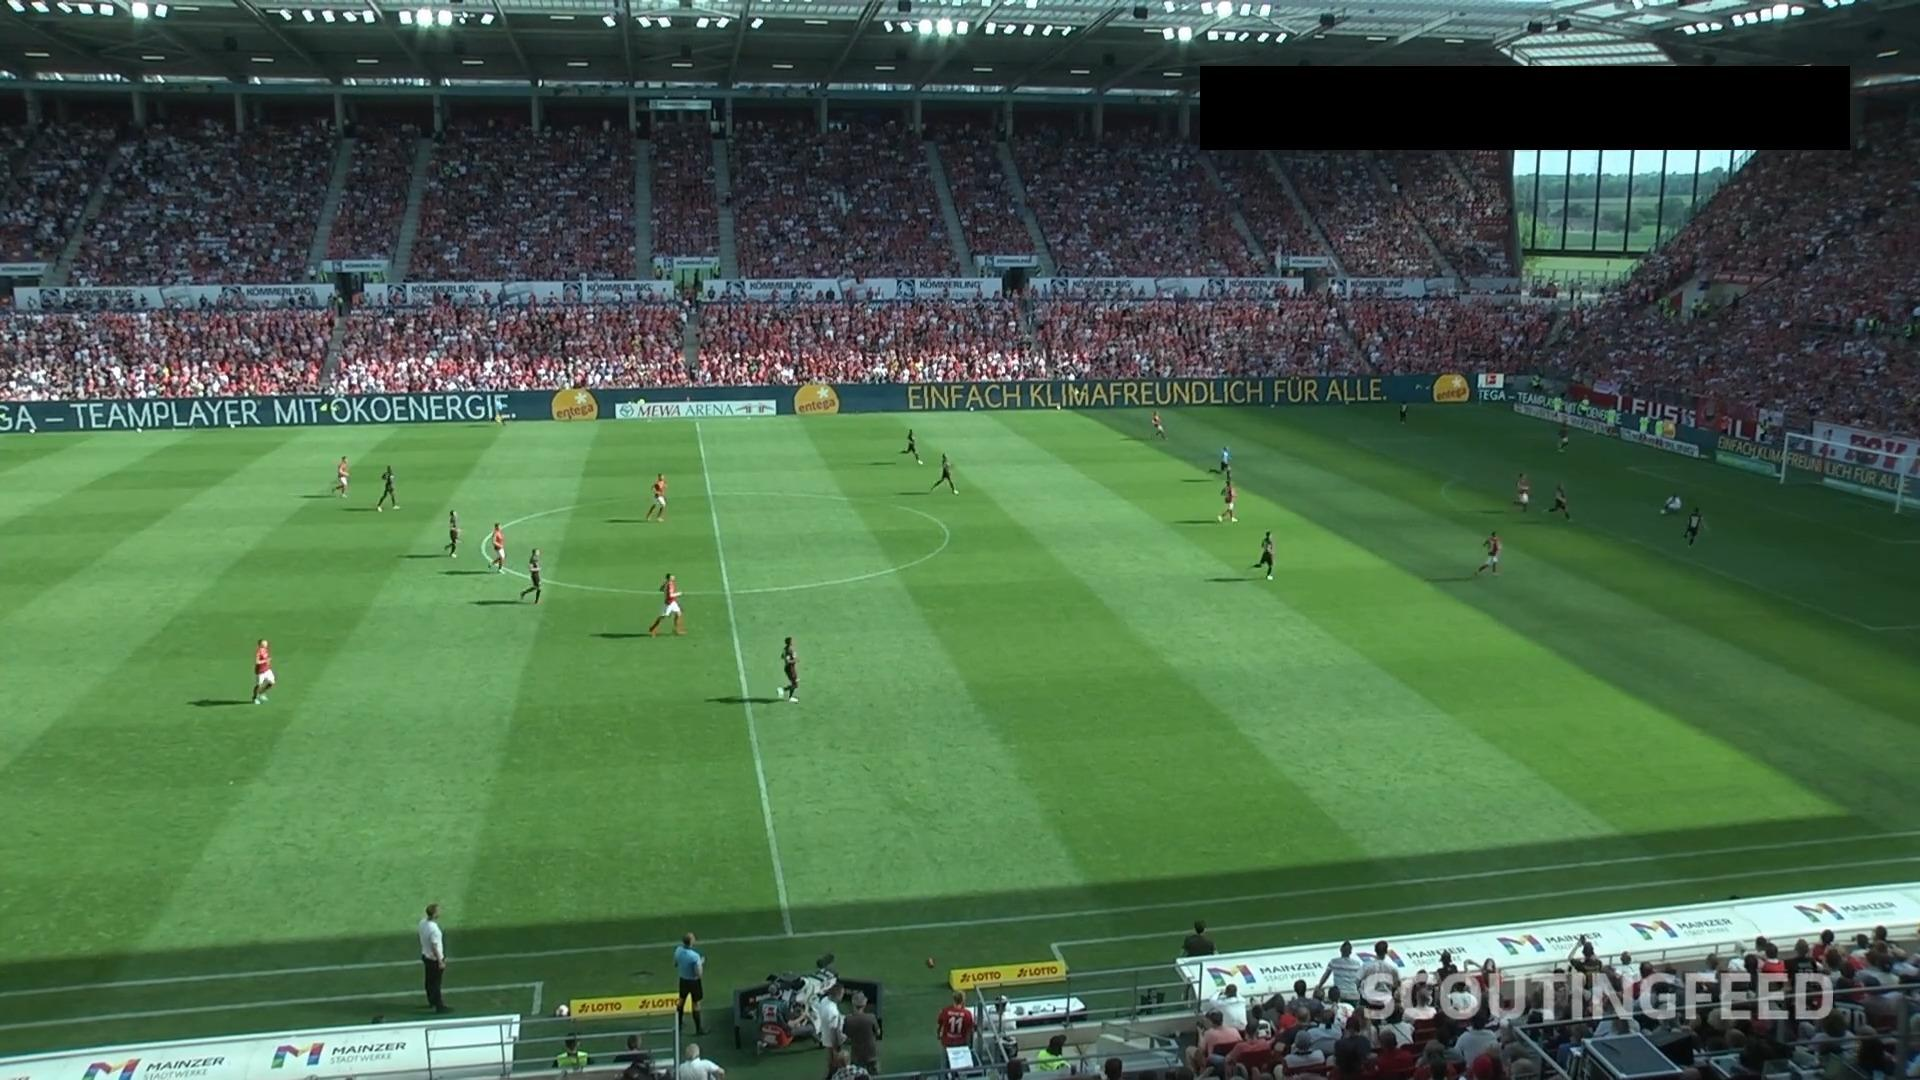ball: (1659, 509, 1665, 516)
